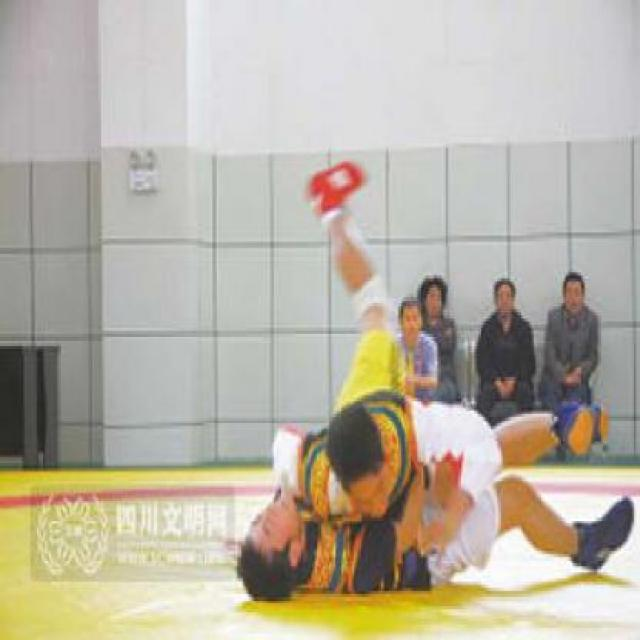fall: (252, 119, 460, 595)
